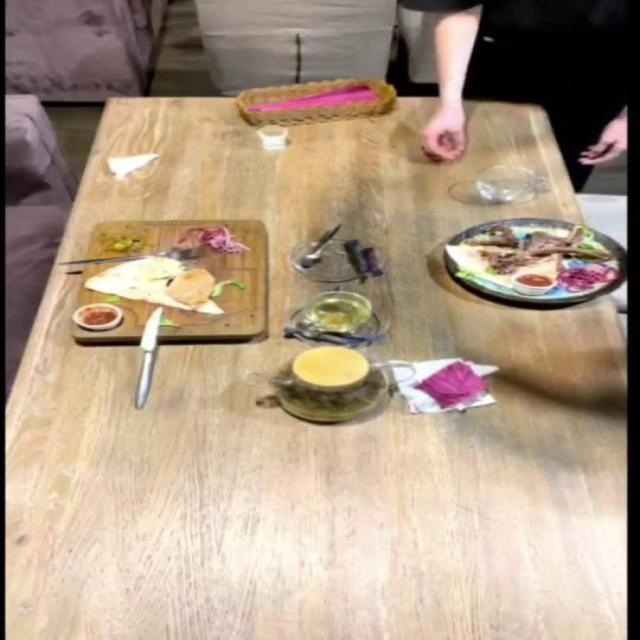meat: (417, 220, 640, 331), (70, 222, 269, 343)
tea: (276, 346, 396, 434)
